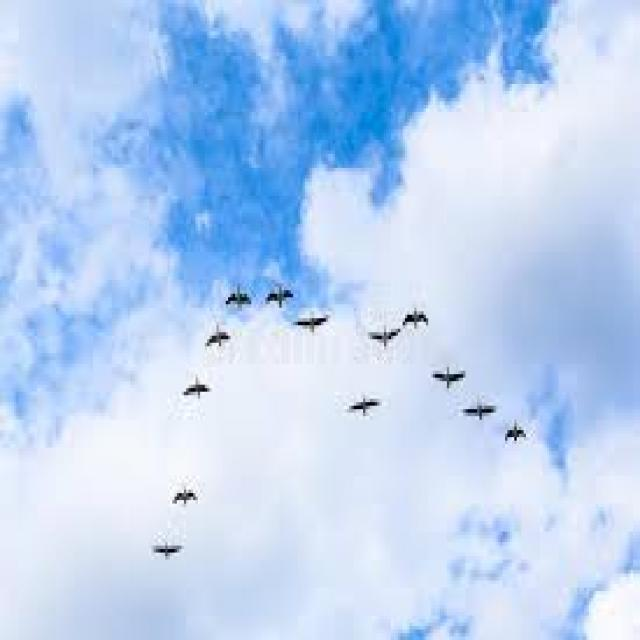bird: (192, 316, 239, 383), (168, 358, 216, 414), (337, 379, 388, 428), (216, 268, 256, 328), (360, 306, 402, 362), (424, 355, 477, 397), (456, 381, 505, 423), (290, 297, 334, 343), (401, 285, 432, 341), (150, 528, 185, 574), (499, 414, 539, 452), (264, 274, 299, 316), (170, 467, 207, 495)
